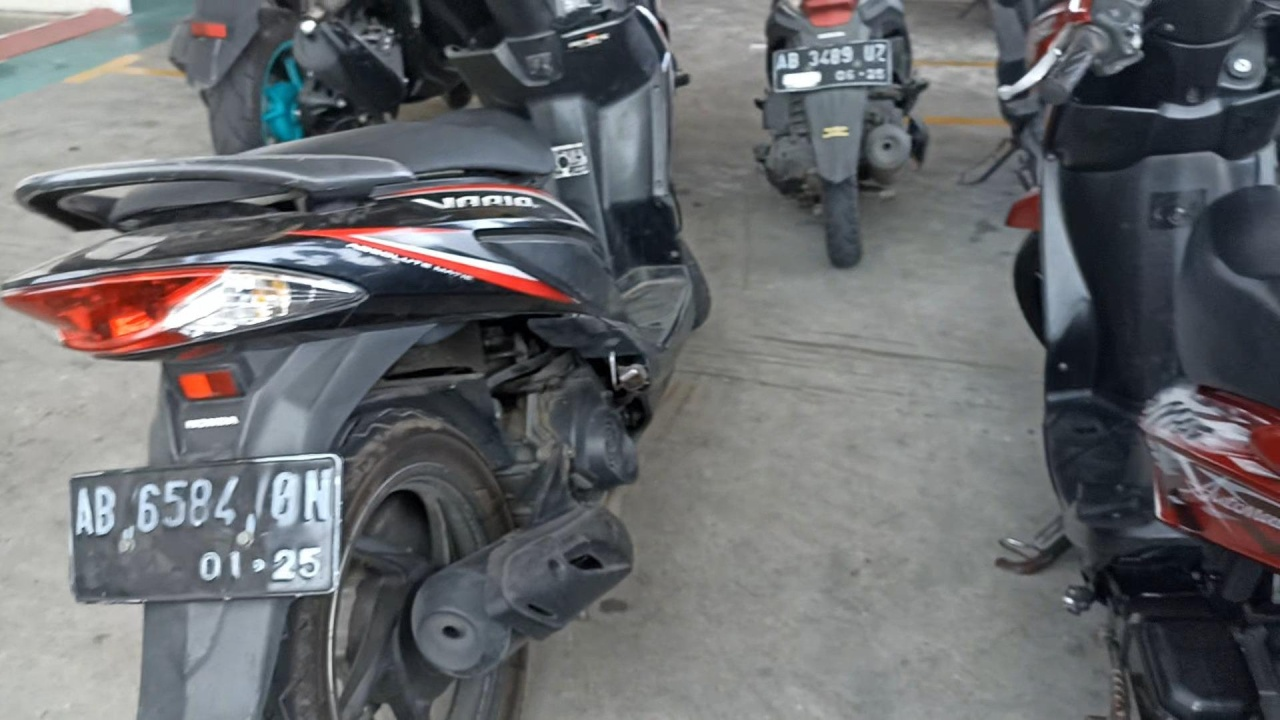plate: (68, 454, 337, 603), (774, 40, 891, 92)
